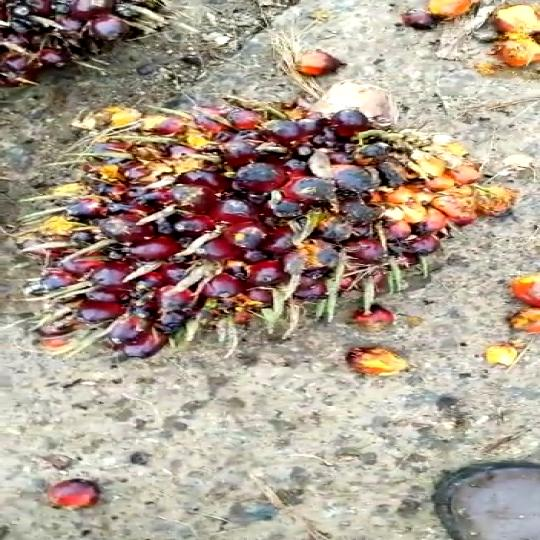masak: (44, 87, 527, 384)
